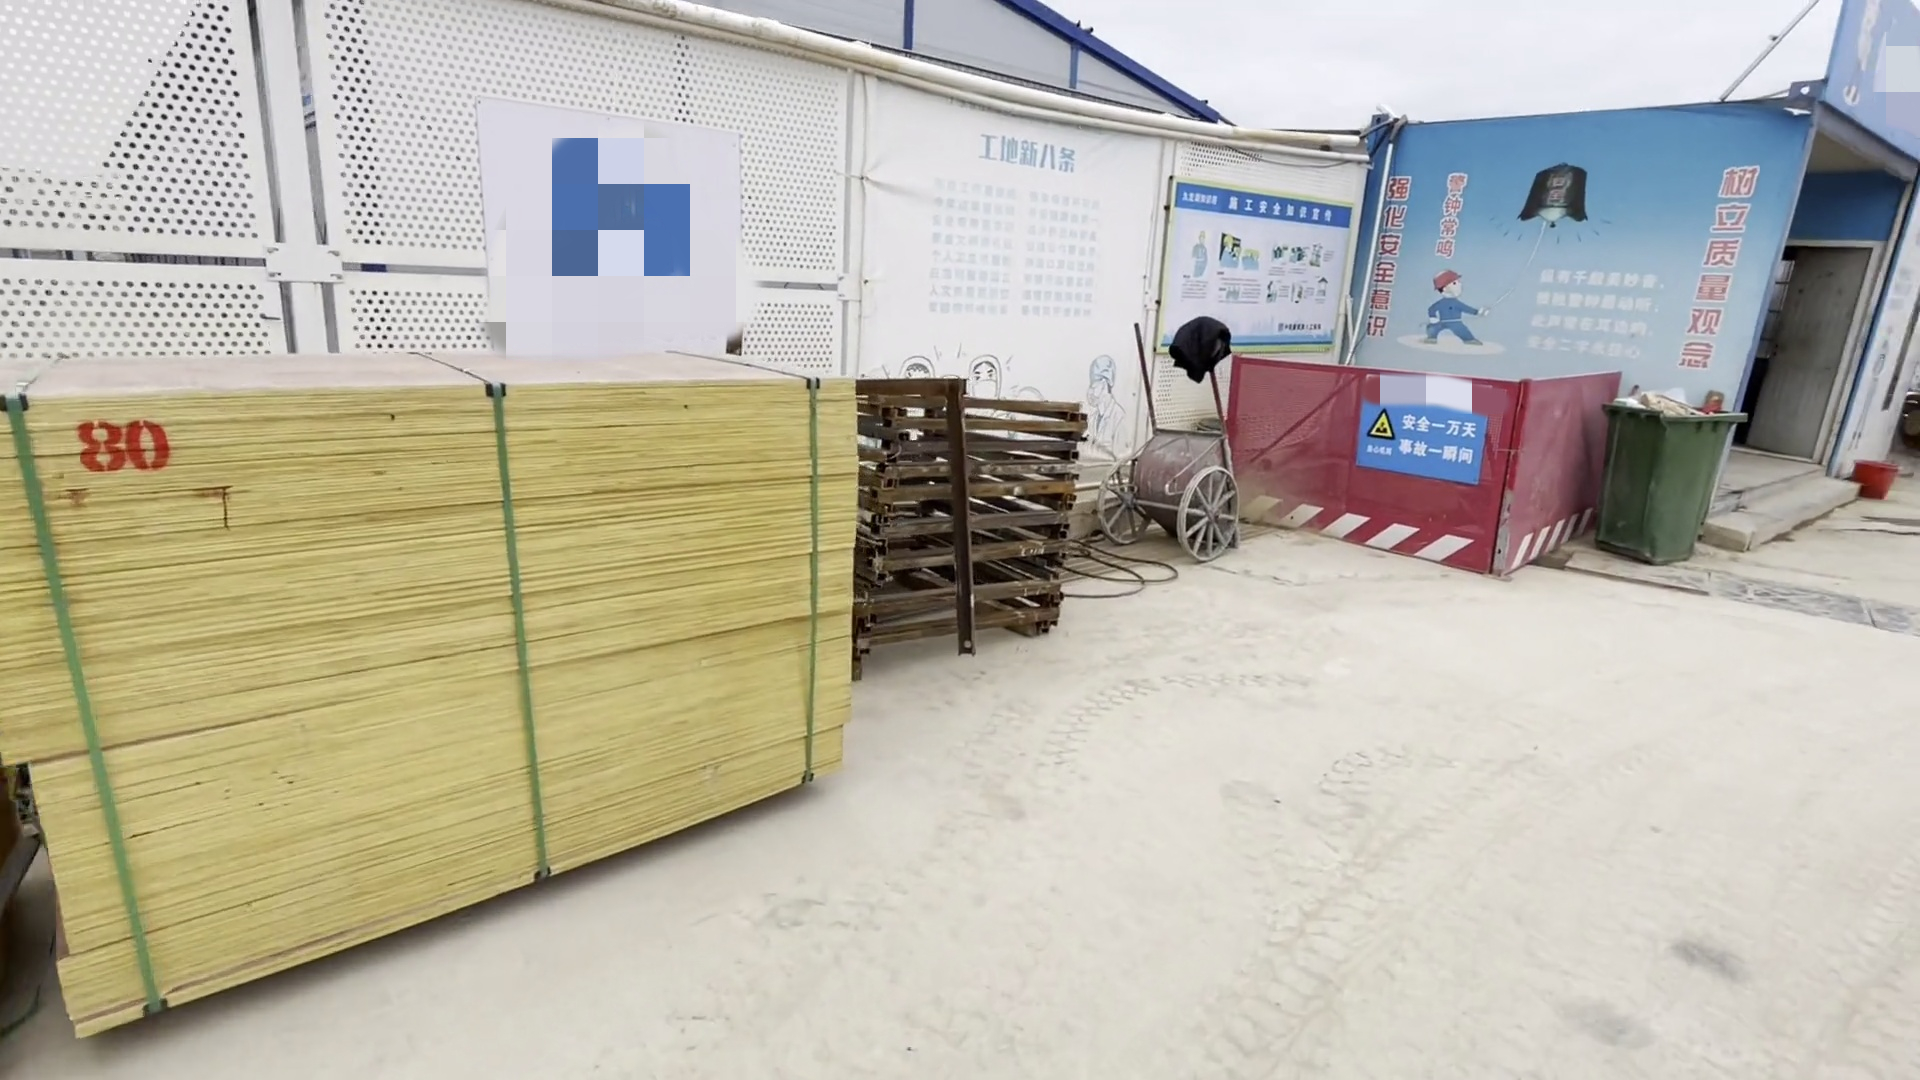board: (4, 368, 876, 1072)
handcart: (1098, 324, 1251, 564)
slogan: (1356, 396, 1487, 481)
